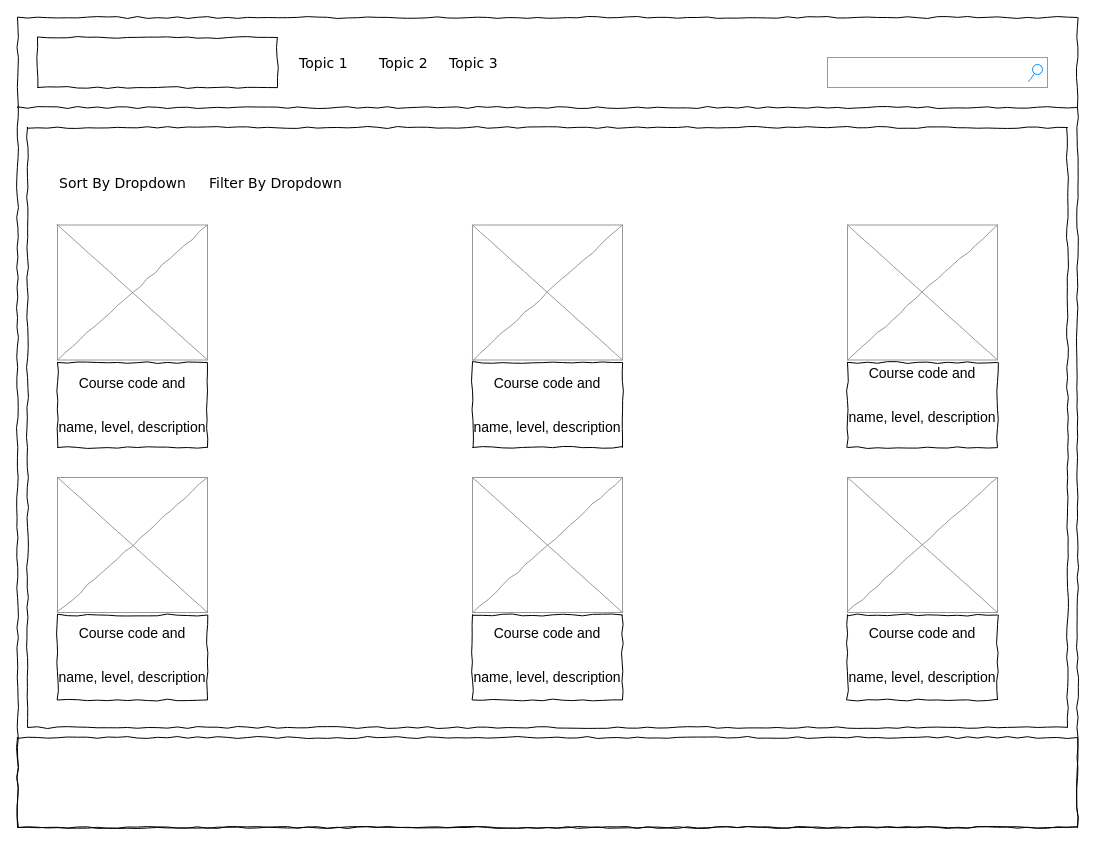
Some shapes in this 1095 by 845 pixel diagram are drawn without their labels. Here are the shapes that lost their labels. From the top down, the centre of each, then its label:
At point 157,62: "Assignment 1".
At point 937,72: "Search".
At point 547,782: "Footer".
